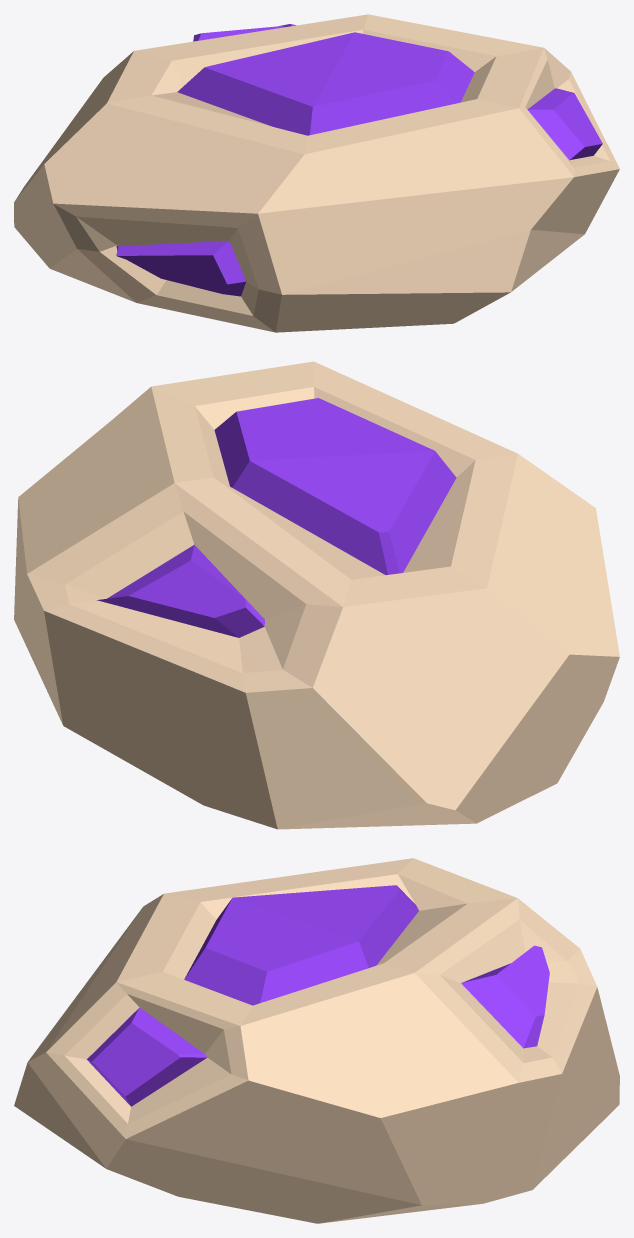
The model's file is MineralNode_13_B.fbx.
3 views of the same model, one above another, from view 1: azimuth 30°, elevation 25°; view 2: azimuth 150°, elevation 25°; view 3: azimuth 270°, elevation 25° (orthographic). The views are drawn at different scales.
Parts seen in each view (by area): view 1: MineralNode_13_B; view 2: MineralNode_13_B; view 3: MineralNode_13_B.
Boxes of the visible parts, x1,y1,x2,y2 form: MineralNode_13_B: (14,14,619,332); MineralNode_13_B: (14,361,619,829); MineralNode_13_B: (14,858,619,1223).
Bounding box in the file's own units: 80.35 × 29.64 × 77.08.
